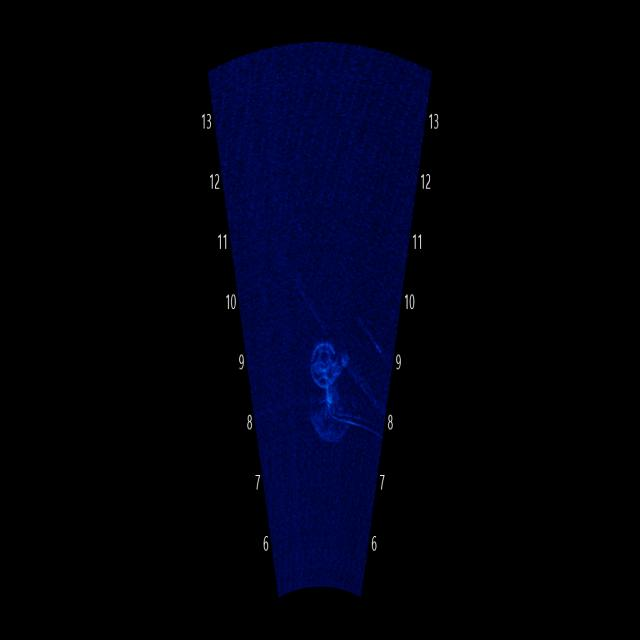circle: (304, 323, 351, 403)
